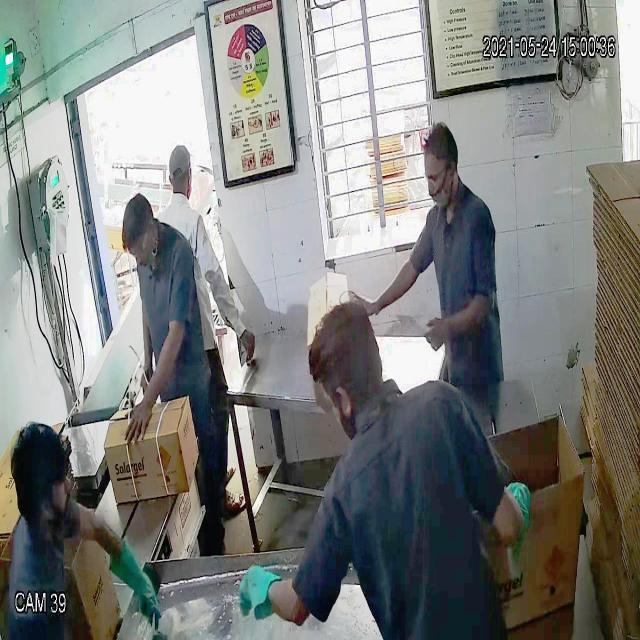glasses: (124, 220, 154, 265), (420, 164, 456, 194)
